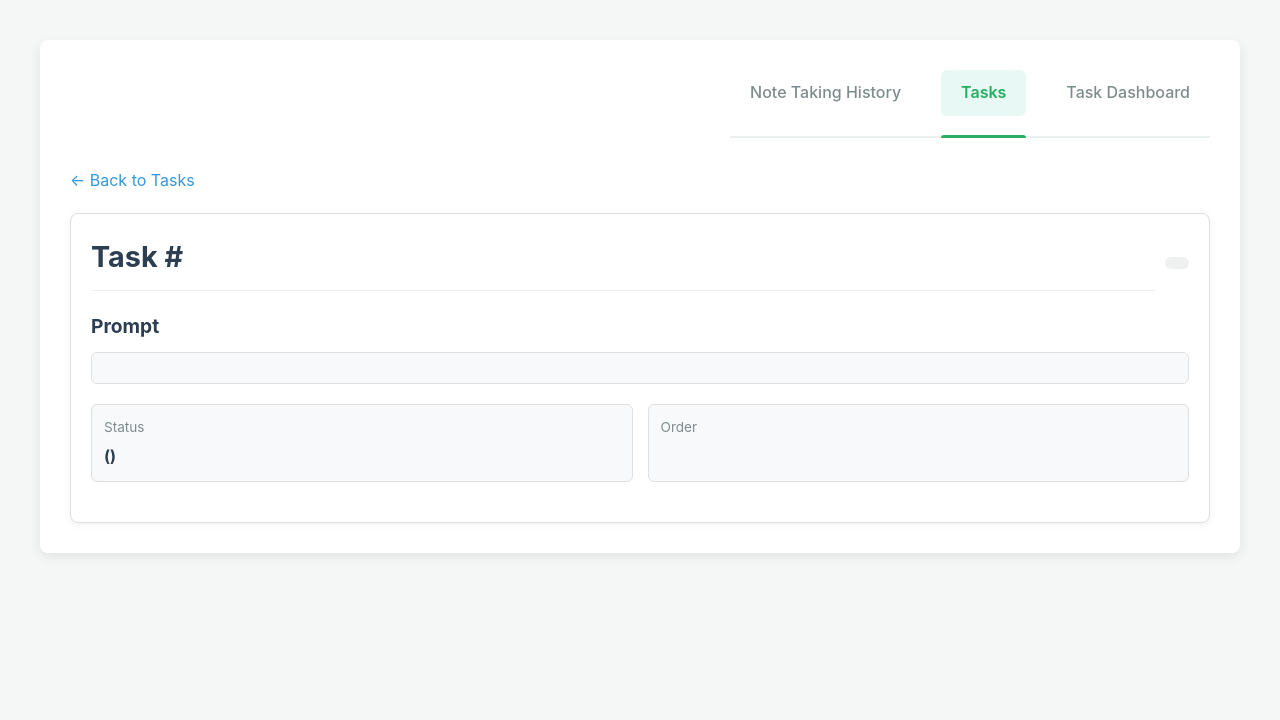
Test: Task List → Detail Flow Integration › navigation back to list works correctly
Click back link
What coordinates should you click on to do the following:
click the link "← Back to Tasks"
I would click on:
 (132, 180)
Its box is [70,170,195,190].
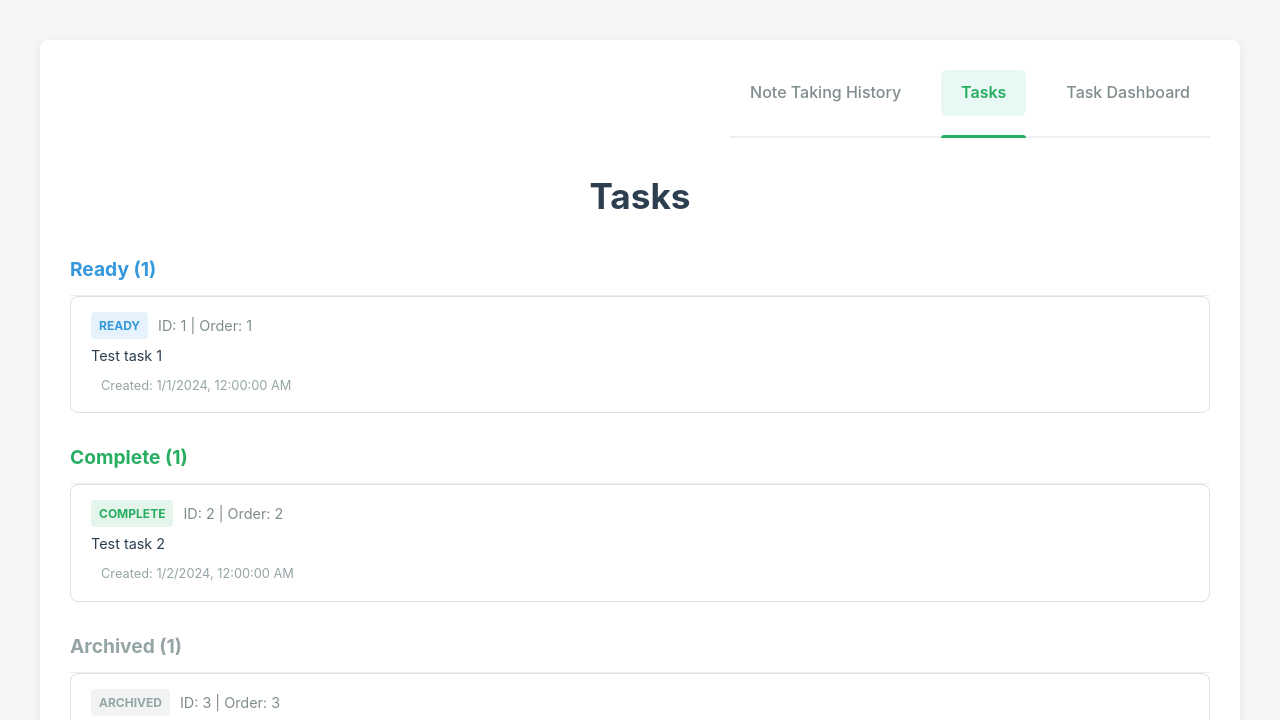
Expected: the link "Tasks" is shown, [941,70,1026,116]
Result: the text "Test task 1" is shown at [91,347,162,364]
Result: the text "Test task 2" is shown at [91,535,165,552]
